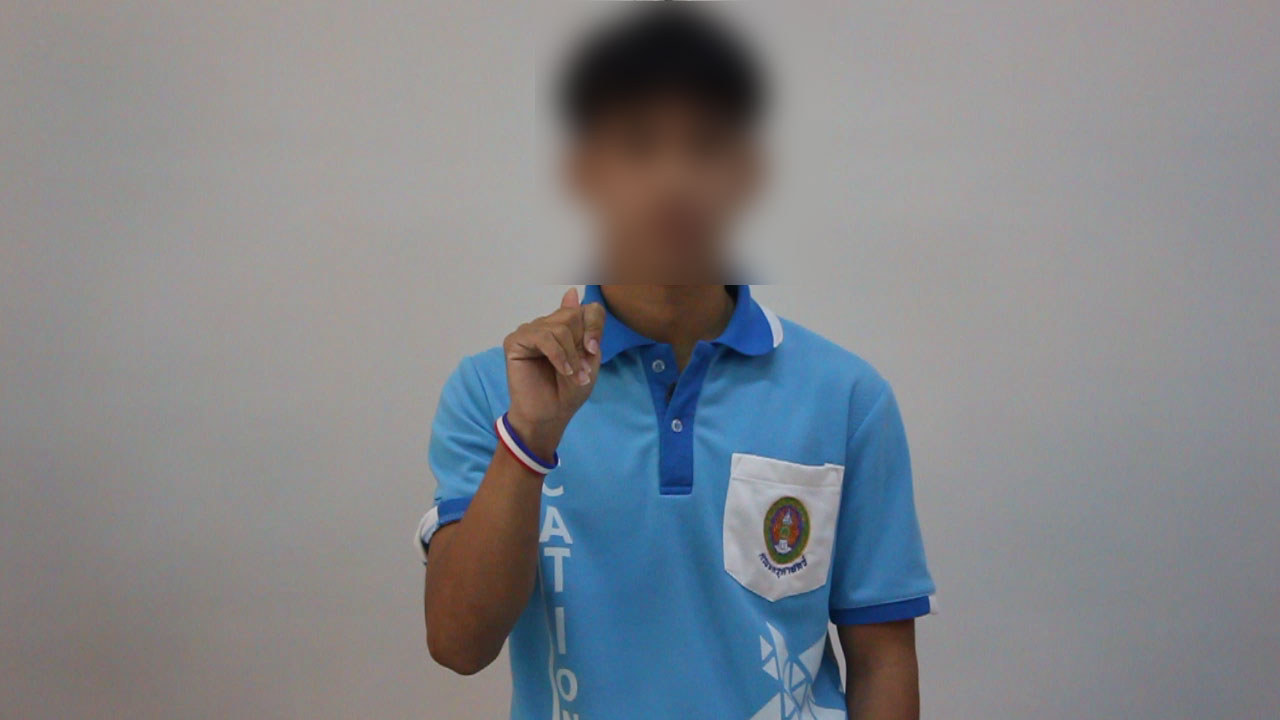tor: (490, 270, 628, 461)
